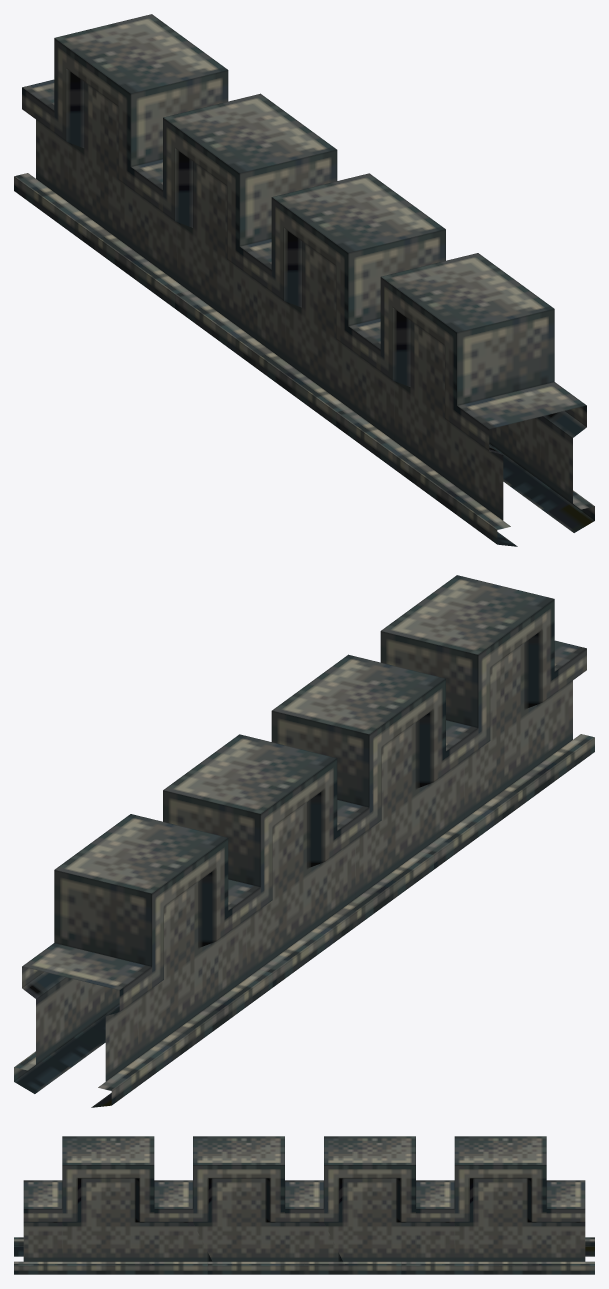
File: EnvBdgMD_Castle_Rain_A_WallTopDeco_A_150H.FBX
3 views of the same model, one above another, from view 1: azimuth 30°, elevation 25°; view 2: azimuth 150°, elevation 25°; view 3: azimuth 270°, elevation 25° (orthographic). The views are drawn at different scales.
Visible parts, largest first — view 1: EnvBdgMD_Castle_Rain_A_WallTopDeco_A_150H; view 2: EnvBdgMD_Castle_Rain_A_WallTopDeco_A_150H; view 3: EnvBdgMD_Castle_Rain_A_WallTopDeco_A_150H.
Boxes of the visible parts, x1,y1,x2,y2 form: EnvBdgMD_Castle_Rain_A_WallTopDeco_A_150H: (14,14,594,546); EnvBdgMD_Castle_Rain_A_WallTopDeco_A_150H: (14,575,594,1107); EnvBdgMD_Castle_Rain_A_WallTopDeco_A_150H: (14,1136,594,1274).
Size of the model in its own units: 70 by 130 by 600.
